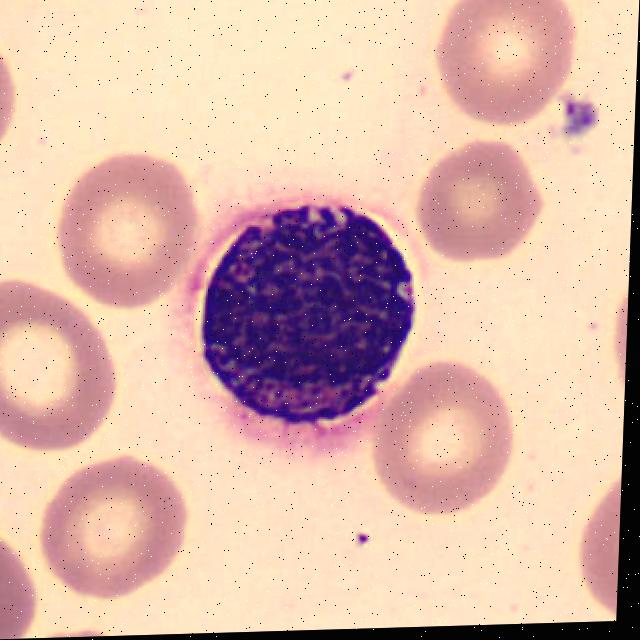basophil: (189, 185, 438, 449)
platelets: (558, 87, 605, 142)
rbc: (22, 440, 216, 608), (0, 270, 132, 462), (377, 358, 528, 524), (56, 151, 202, 313), (403, 136, 566, 273), (435, 0, 578, 126), (560, 467, 622, 622), (0, 486, 53, 640), (594, 277, 629, 409), (0, 23, 29, 165), (15, 623, 164, 639), (0, 487, 6, 538)
